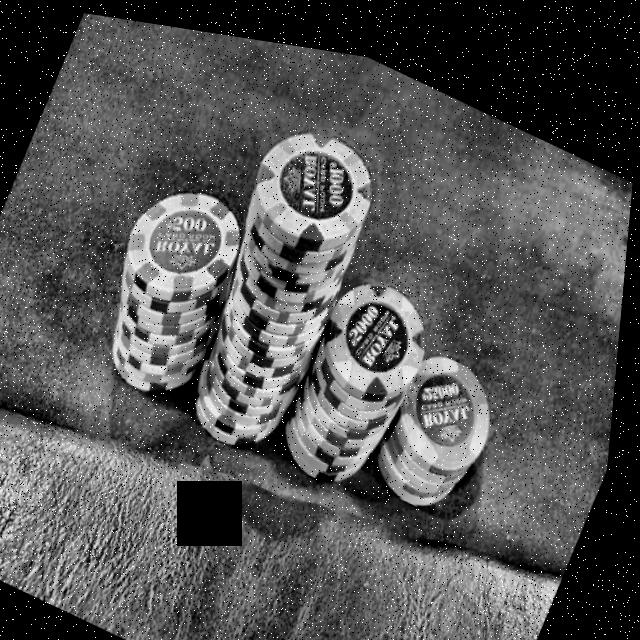Chip: (157, 84, 402, 479), (77, 136, 271, 418), (271, 238, 453, 503), (366, 312, 525, 517)
